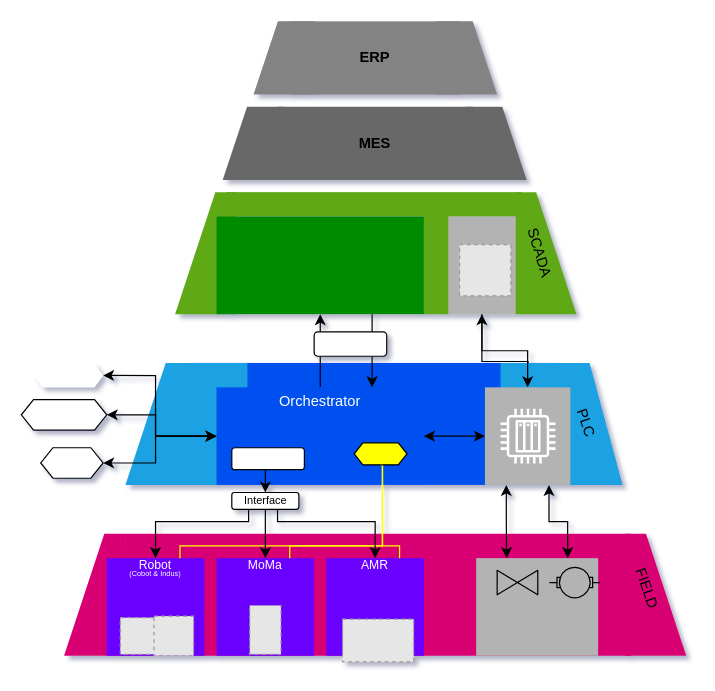
The diagram is 715 pixels wide and 691 high, and some of its shapes have lost their labels. Grey dashed boxes stand in for pictures. Here are the shapes that lost their labels. From the top down, the centre of each, then its label:
At (x=350, y=343): "Missions".
At (x=67, y=375): "Vision".
At (x=63, y=414): "User Commands".
At (x=71, y=462): "Fleet Manager".
At (x=380, y=453): "Safety".
